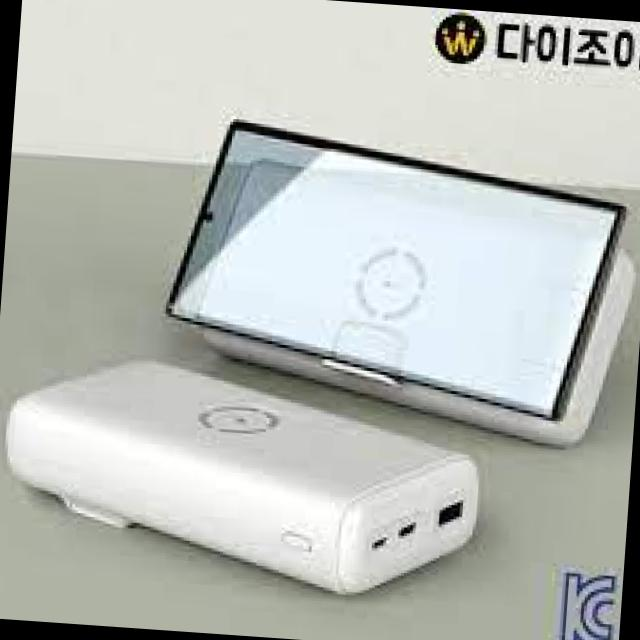power_bank: (0, 346, 494, 610)
